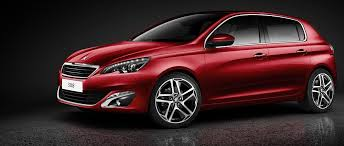car: (55, 11, 335, 121)
